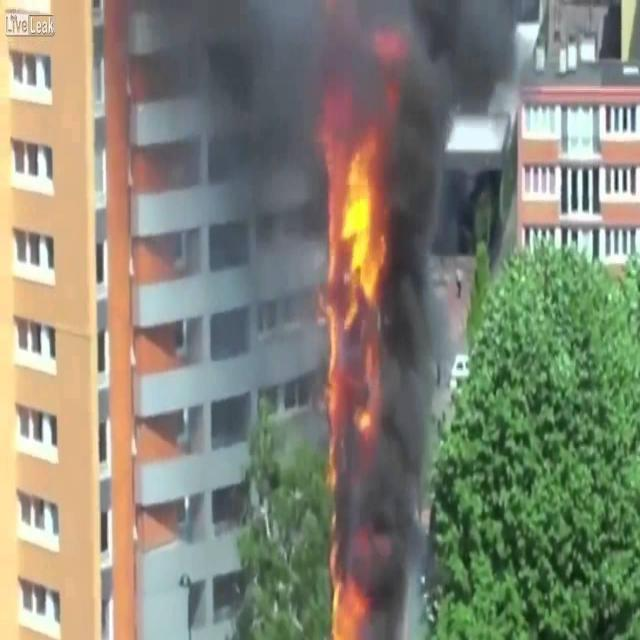Fire: (321, 88, 443, 639)
